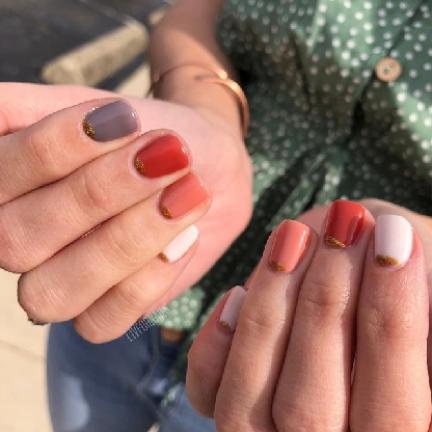Nail: (134, 134, 190, 179), (82, 100, 138, 142), (159, 171, 208, 219), (269, 219, 310, 274), (325, 199, 365, 250), (374, 215, 413, 267), (158, 224, 199, 263), (219, 286, 246, 332)
